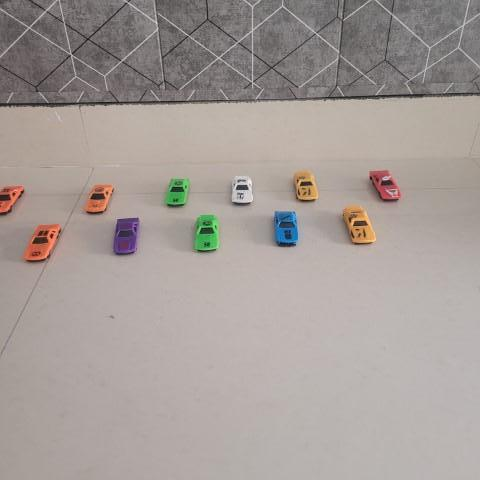car: (21, 223, 67, 261), (340, 200, 377, 246), (109, 213, 145, 258), (192, 210, 223, 256), (270, 204, 301, 247), (368, 165, 403, 201), (227, 173, 260, 206), (83, 180, 115, 214), (291, 165, 320, 202), (163, 176, 192, 207)
